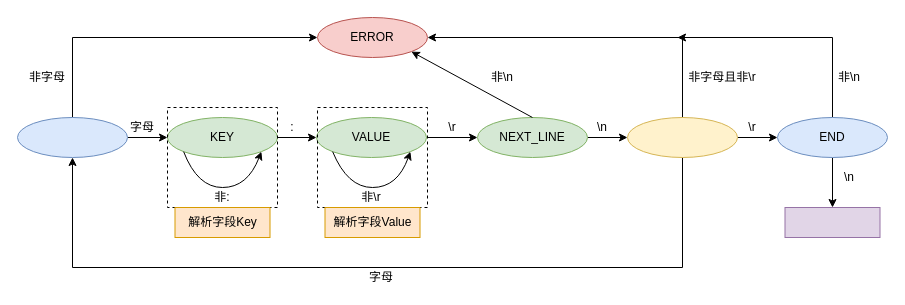
The diagram is 905 pixels wide and 305 high, and some of its shapes have lost their labels. The centre of each missing label's shape, as x and y in pixels:
LINE_END: the point at 682,137
START: the point at 72,137
接收Body: the point at 832,222
